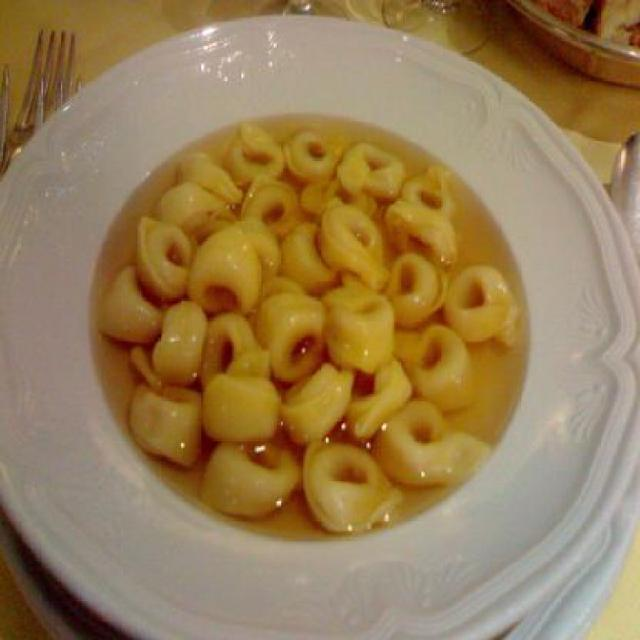Tortellini in broth: (118, 115, 516, 538)
